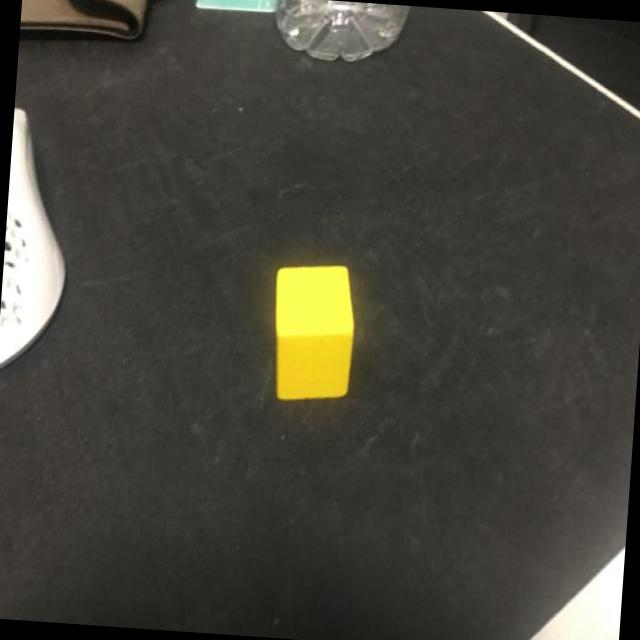yellow: (268, 260, 357, 402)
